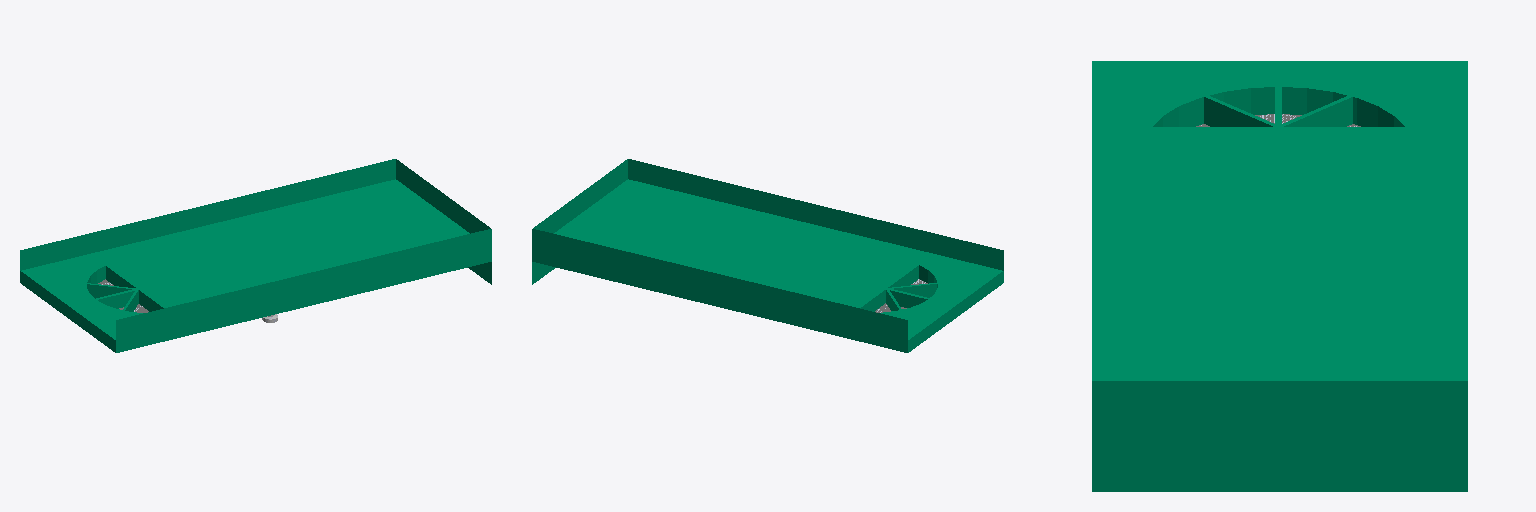
robot.urdf — right-pull-door:
<?xml version="1.0" ?>
<robot name="right-pull-door">
	<link name="base"/>
	<link name="link_0">
		<visual name="out-frame">
			<origin xyz="0 0 0"/>
			<geometry>
				<mesh filename="texture_dae/frame.dae" scale="0.8023904493137358 0.8023904493137358 0.8023904493137358"/>
			</geometry>
		</visual>
		<collision>
			<origin xyz="0 0 0"/>
			<geometry>
				<mesh filename="texture_dae/frame.dae" scale="0.8023904493137358 0.8023904493137358 0.8023904493137358"/>
			</geometry>
		</collision>
	</link>
	<joint name="joint_0" type="fixed">
		<origin rpy="1.570796326794897 0 -1.570796326794897" xyz="0 0 0"/>
		<child link="link_0"/>
		<parent link="base"/>
	</joint>
	<link name="link_1">
		<visual name="surf-board">
			<origin xyz="0.37226065927907914 -0.8182492597492138 0"/>
			<geometry>
				<mesh filename="texture_dae/board.dae" scale="0.8023904493137358 0.8023904493137358 0.8023904493137358"/>
			</geometry>
		</visual>
		<collision>
			<origin xyz="0.37226065927907914 -0.8182492597492138 0"/>
			<geometry>
				<mesh filename="texture_dae/board.dae" scale="0.8023904493137358 0.8023904493137358 0.8023904493137358"/>
			</geometry>
		</collision>
	</link>
	<joint name="joint_1" type="revolute">
		<origin xyz="-0.37226065927907914 0.8182492597492138 0"/>
		<axis xyz="0 -1 0"/>
		<child link="link_1"/>
		<parent link="link_0"/>
		<limit lower="0" upper="1.5079644737231006"/>
	</joint>
	<link name="link_2">
		<visual name="handle">
			<origin xyz="0 0 0"/>
			<geometry>
				<mesh filename="texture_dae/9962029.dae" scale="1.222368994223632 1.222368994223632 1.222368994223632"/>
			</geometry>
		</visual>
		<collision>
			<origin xyz="0 0 0"/>
			<geometry>
				<mesh filename="texture_dae/9962029.dae" scale="1.222368994223632 1.222368994223632 1.222368994223632"/>
			</geometry>
		</collision>
	</link>
	<joint name="joint_2" type="revolute">
		<origin xyz="0.6714978177312606 -0.9056112678517161 0.07096783359400255"/>
		<child link="link_2"/>
		<parent link="link_1"/>
		<axis xyz="0 0 1"/>
		<limit lower="0" upper="1.5079644737231006"/>
	</joint>
</robot>

--- What the picture shows (computed from the rendered views, not written in the file) ---
Views: 3 orthographic renders of the robot side by side, from view 1: azimuth 30°, elevation 25°; view 2: azimuth 150°, elevation 25°; view 3: azimuth 270°, elevation 25°.
Model right-pull-door with 4 links and 3 joints (2 revolute, 1 fixed), rooted at base, posed every joint at zero.
Links seen in each view (by area): view 1: link_1; view 2: link_1; view 3: link_1.
Link boxes in pixels (<box>): link_1: <box>20,159,491,352</box>; link_1: <box>532,159,1003,352</box>; link_1: <box>1092,61,1467,491</box>.
Bounding box of the posed robot: 1.71 × 0.7515 × 0.2446 m (x, y, z).
Meshes: 3 distinct files referenced, 2 mesh visuals loaded (2 Collada DAE); not drawn: 1 (reference not matched to a file when rendering).
